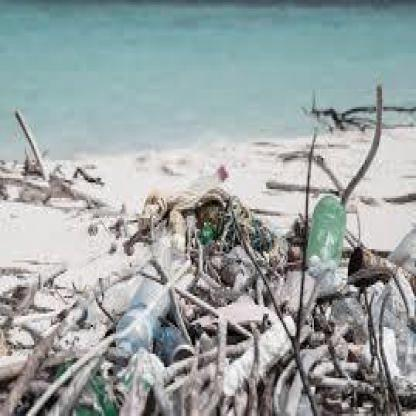Plastic: (309, 193, 346, 266)
